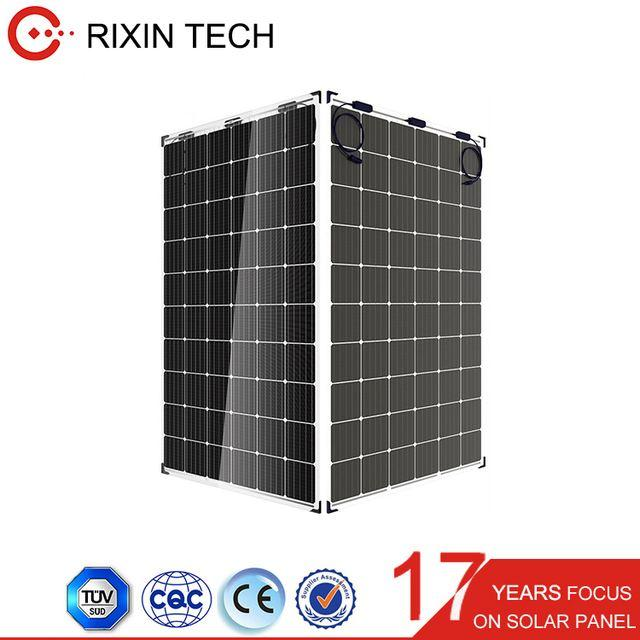clean-solar-panel: (165, 106, 314, 501), (416, 200, 438, 234)
